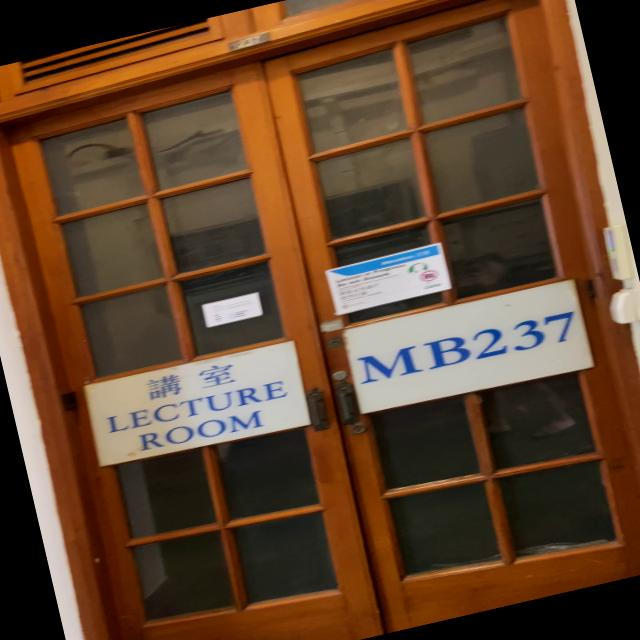room237: (222, 29, 276, 54)
room237Window: (347, 297, 586, 393)
